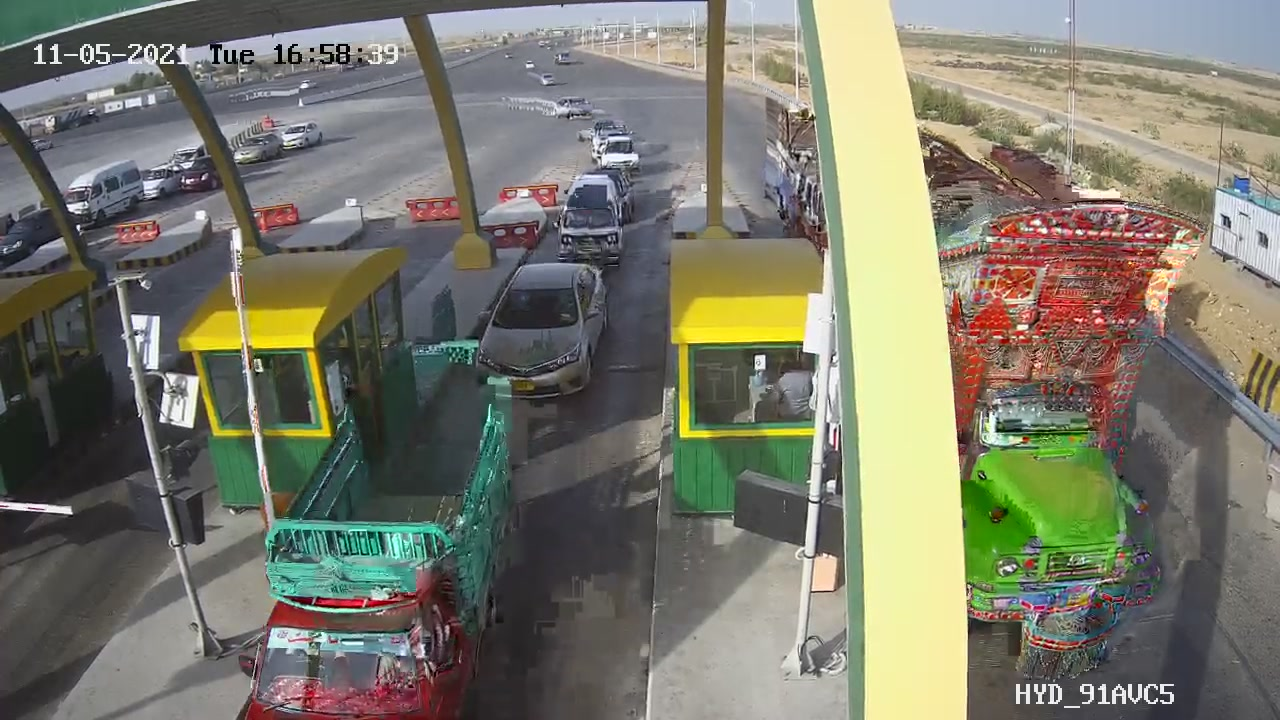F1: (455, 247, 626, 421)
